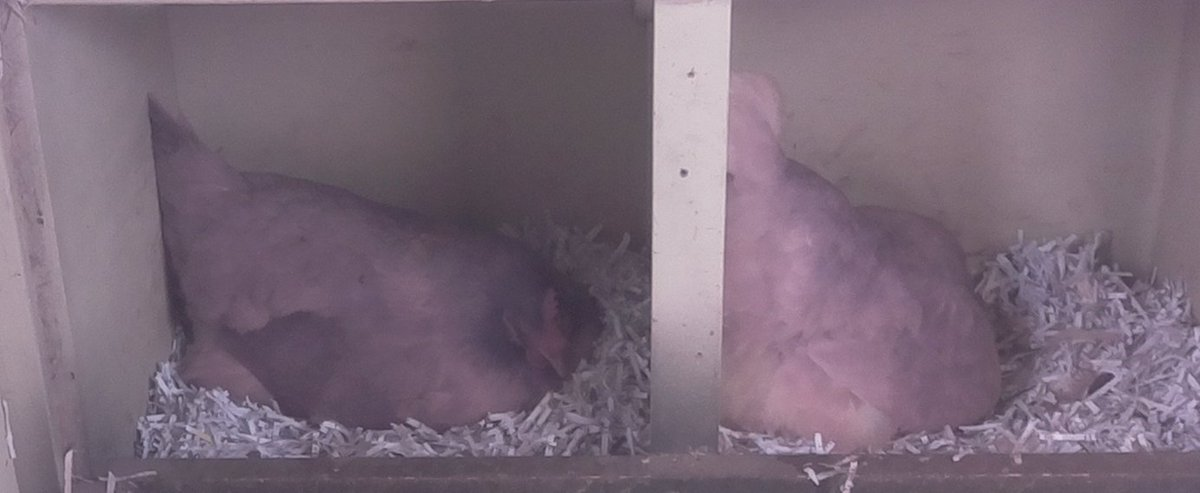hen: (149, 128, 605, 444), (728, 70, 1011, 455)
